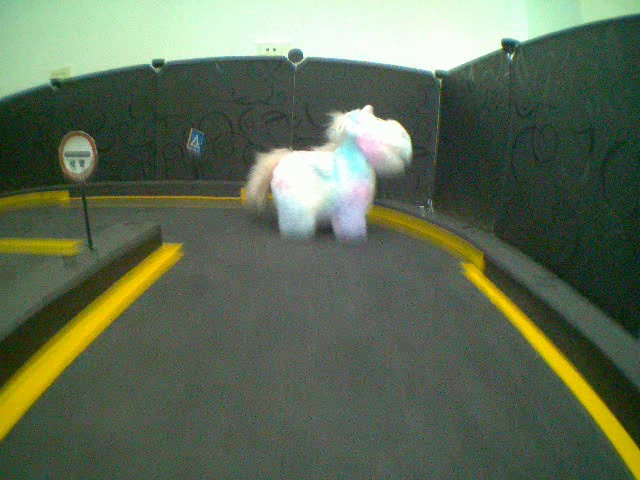unicorn: (242, 99, 414, 246)
